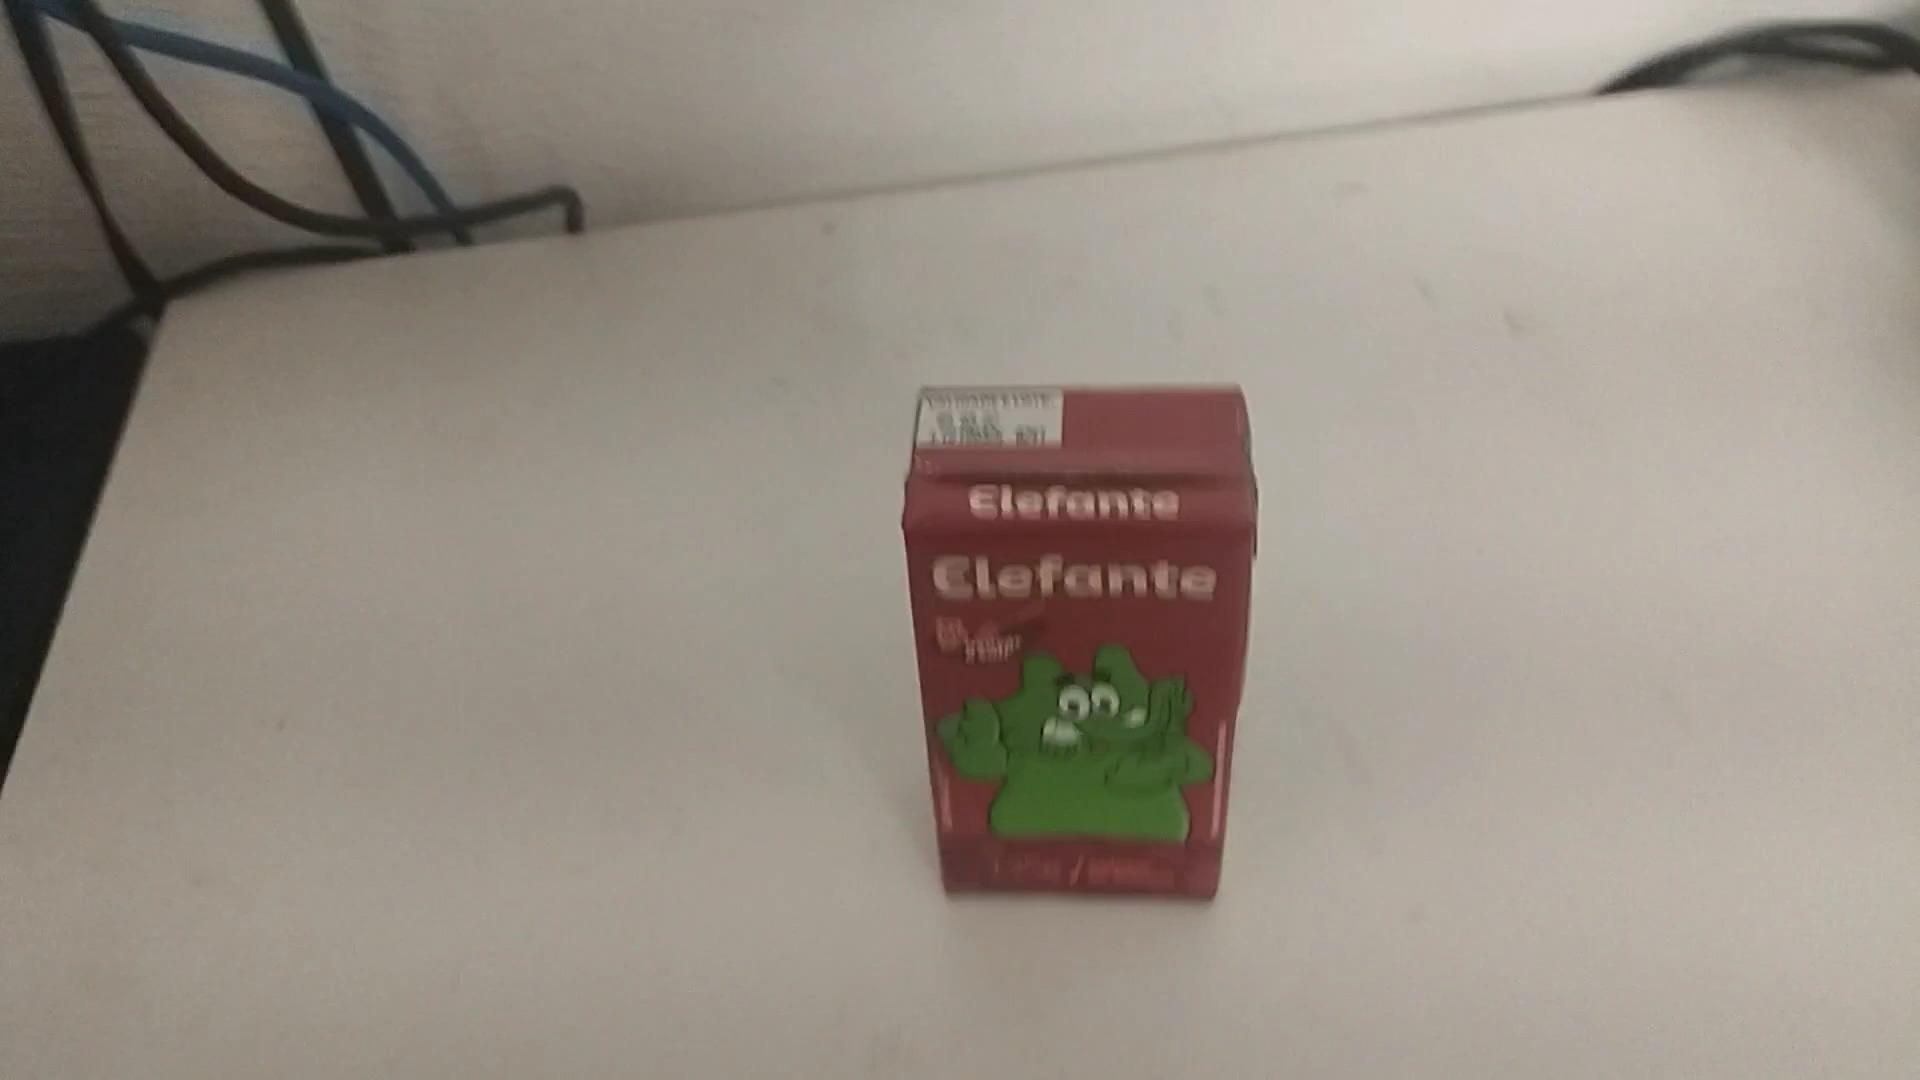tomate: (891, 369, 1261, 899)
